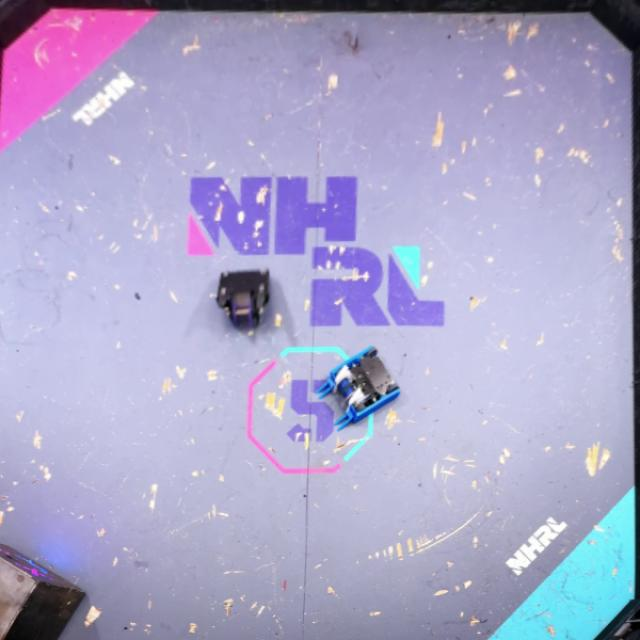housebot: (0, 538, 87, 640)
robot: (315, 345, 401, 431), (214, 269, 272, 343)
